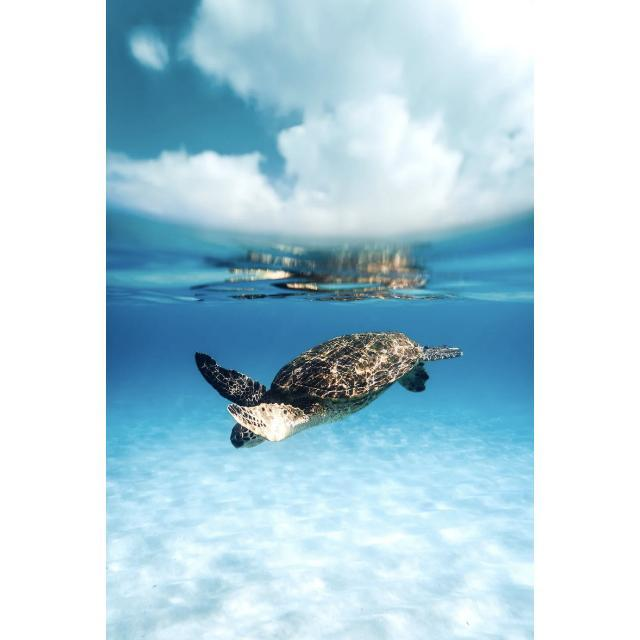turtle: (192, 328, 464, 451)
